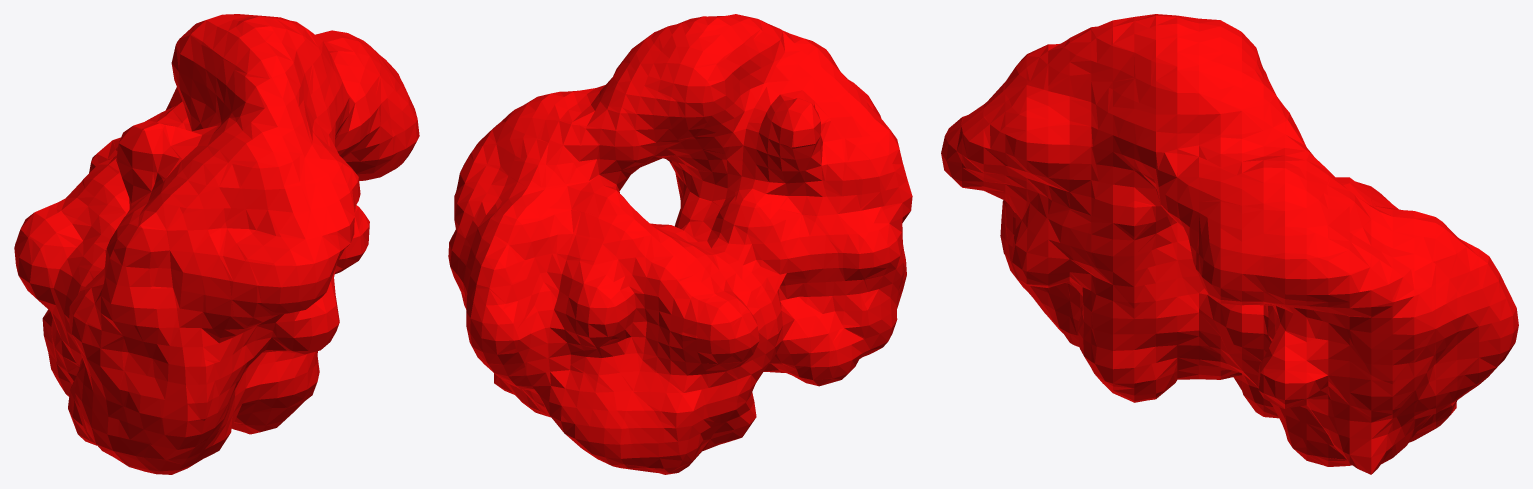
File: flhD_coarse.dae
3 renders of one model, left to right at view 1: azimuth 30°, elevation 25°; view 2: azimuth 150°, elevation 25°; view 3: azimuth 270°, elevation 25°, orthographic. The views are drawn at different scales.
Parts seen in each view (by area): view 1: flhD; view 2: flhD; view 3: flhD.
Part boxes in pixels (left/top/right/bottom): flhD: left=14, top=14, right=419, bottom=474; flhD: left=448, top=14, right=912, bottom=474; flhD: left=941, top=14, right=1518, bottom=474.
Bounding box in the file's own units: 73.92 × 78.14 × 91.68.
